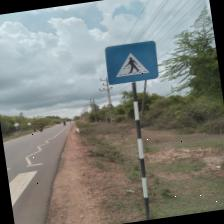blueboard: (102, 38, 162, 86)
crossing: (2, 120, 84, 208)
